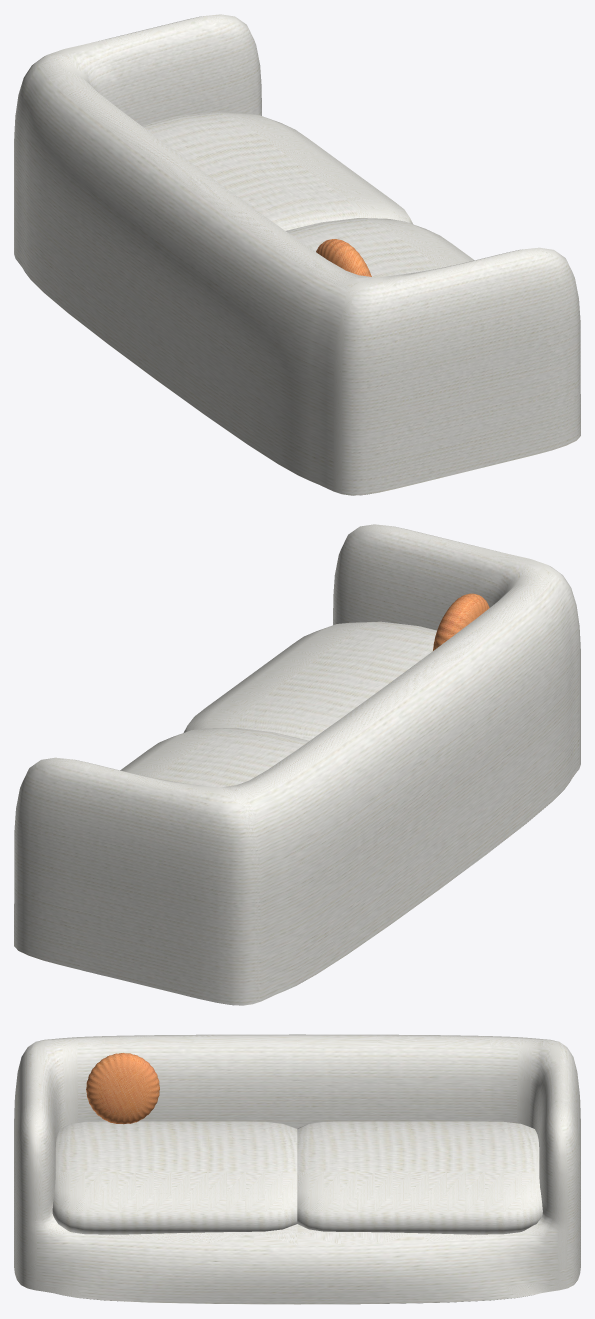
Rendered from couch_teddy.fbx.
3 views of the same model, one above another, from view 1: azimuth 30°, elevation 25°; view 2: azimuth 150°, elevation 25°; view 3: azimuth 270°, elevation 25° (orthographic). The views are drawn at different scales.
Visible parts, largest first — view 1: Cube, Cube.002, Cube.001, Cylinder; view 2: Cube, Cube.001, Cube.002, Cylinder; view 3: Cube, Cube.002, Cube.001, Cylinder.
Boxes of the visible parts, x1,y1,x2,y2 form: Cube: [14, 14, 580, 495]; Cube.002: [140, 112, 412, 230]; Cube.001: [286, 218, 474, 277]; Cylinder: [316, 239, 371, 276]; Cube: [14, 524, 580, 1005]; Cube.001: [183, 621, 436, 740]; Cube.002: [120, 727, 309, 787]; Cylinder: [433, 593, 489, 650]; Cube: [14, 1034, 580, 1304]; Cube.002: [297, 1121, 542, 1234]; Cube.001: [52, 1121, 297, 1234]; Cylinder: [86, 1053, 159, 1124].
Size of the model in its own units: 174 by 109 by 343.
